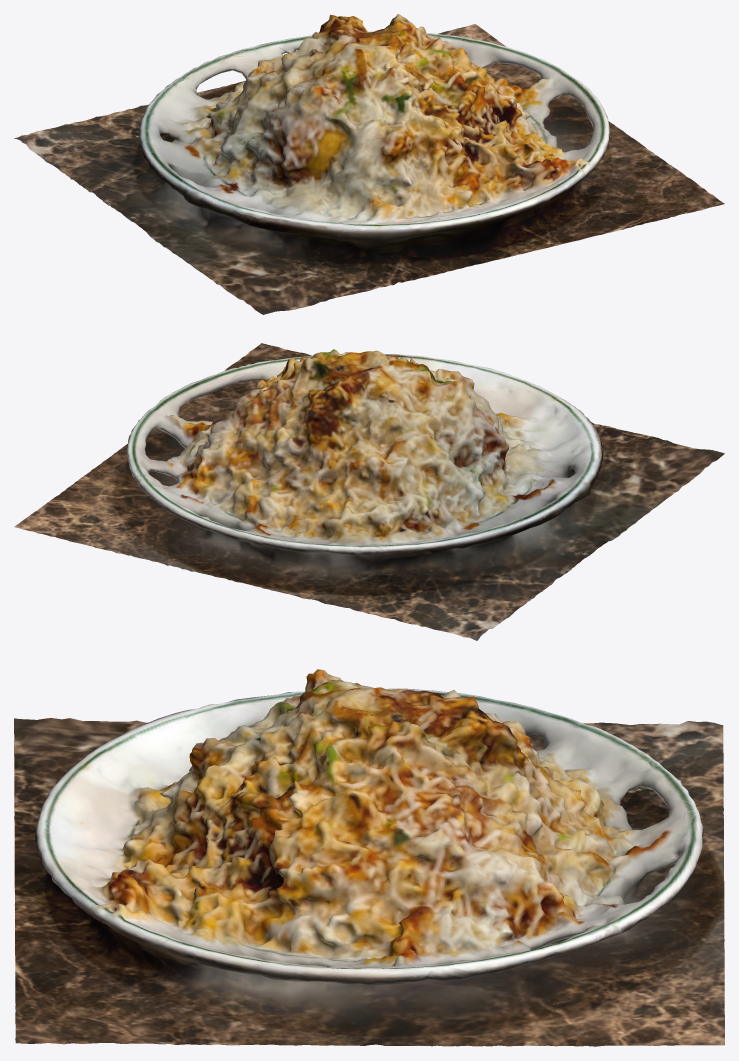
Rendered from 3DModel.obj.
The picture shows the model from 3 angles, top to bottom: view 1: azimuth 30°, elevation 25°; view 2: azimuth 150°, elevation 25°; view 3: azimuth 270°, elevation 25°; orthographic projection. The views are drawn at different scales.
Visible parts, largest first — view 1: obj1, obj2; view 2: obj1, obj2; view 3: obj1, obj2.
Part boxes in pixels (<box>): obj1: <box>14,15,724,314</box>; obj2: <box>22,14,648,309</box>; obj1: <box>14,343,724,640</box>; obj2: <box>63,349,692,637</box>; obj1: <box>14,679,724,1046</box>; obj2: <box>14,669,723,1046</box>.
Bounding box in the file's own units: 0.2974 × 0.0845 × 0.2769.
Materials: 1 (1 with a texture image).
